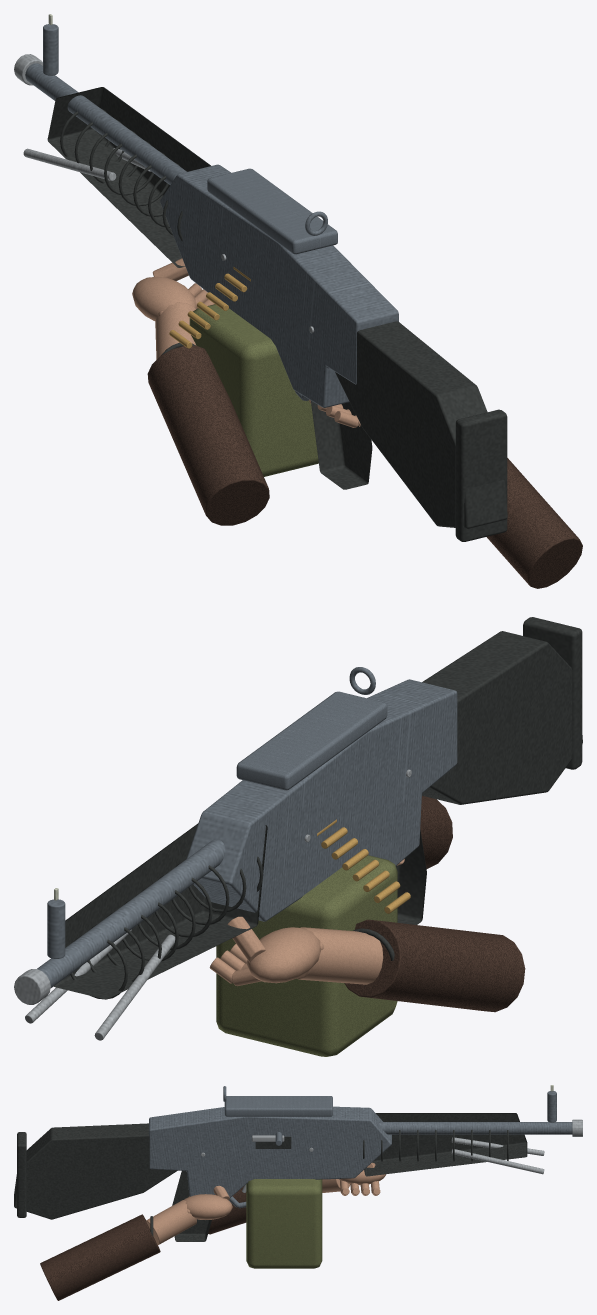
Rendered from minimi.glb.
The picture shows the model from 3 angles, top to bottom: view 1: azimuth 30°, elevation 25°; view 2: azimuth 150°, elevation 25°; view 3: azimuth 270°, elevation 25°; orthographic projection. The views are drawn at different scales.
Visible parts, largest first — view 1: minimi__BODY, minimi__HAND_L, minimi__MAGAZINE, minimi__HAND_R, minimi__FEED_COVER, minimi__BELT; view 2: minimi__BODY, minimi__HAND_L, minimi__MAGAZINE, minimi__FEED_COVER, minimi__HAND_R, minimi__BELT; view 3: minimi__BODY, minimi__HAND_R, minimi__MAGAZINE, minimi__FEED_COVER, minimi__HAND_L.
Boxes of the visible parts, box(x1,y1,x2,y2) form: minimi__BODY: box(14, 14, 507, 541); minimi__HAND_L: box(132, 258, 269, 525); minimi__MAGAZINE: box(189, 304, 318, 476); minimi__HAND_R: box(309, 399, 582, 588); minimi__FEED_COVER: box(207, 168, 337, 254); minimi__BELT: box(169, 267, 250, 348); minimi__BODY: box(14, 617, 582, 1040); minimi__HAND_L: box(209, 916, 525, 1012); minimi__MAGAZINE: box(216, 855, 397, 1056); minimi__FEED_COVER: box(236, 691, 387, 790); minimi__HAND_R: box(397, 796, 452, 868); minimi__BELT: box(317, 819, 410, 913); minimi__BODY: box(14, 1085, 582, 1241); minimi__HAND_R: box(40, 1185, 232, 1300); minimi__MAGAZINE: box(246, 1179, 322, 1268); minimi__FEED_COVER: box(224, 1096, 332, 1116); minimi__HAND_L: box(208, 1162, 385, 1234).
Bounding box in the file's own units: 0.3294 × 0.3781 × 1.05.
Materials: 8 (8 with a texture image).
